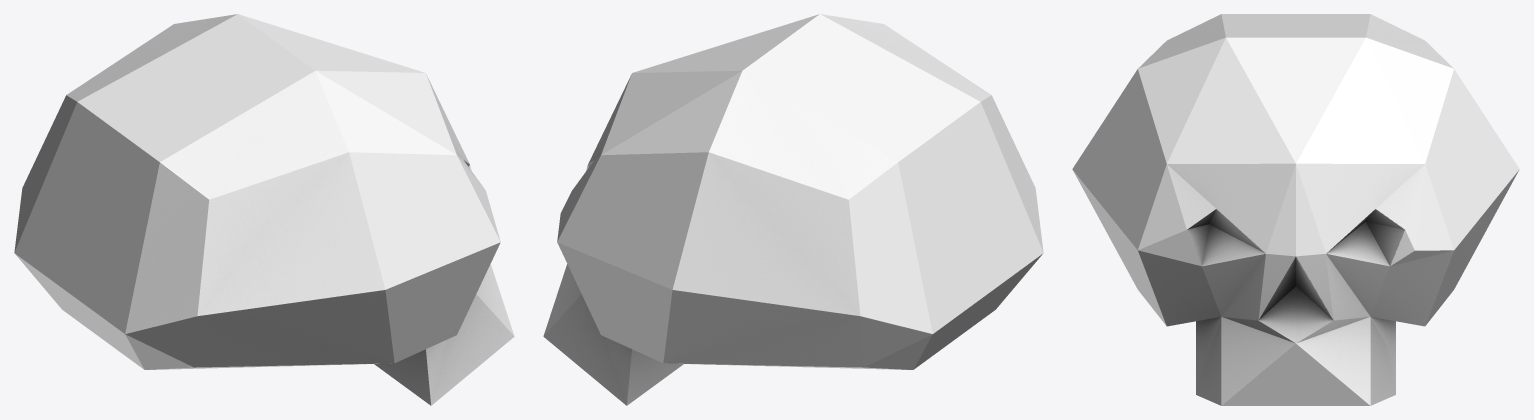
The model's file is Skull.dae.
3 views of the same model, side by side, from view 1: azimuth 30°, elevation 25°; view 2: azimuth 150°, elevation 25°; view 3: azimuth 270°, elevation 25° (orthographic). The views are drawn at different scales.
Parts seen in each view (by area): view 1: Cube; view 2: Cube; view 3: Cube.
Part boxes in pixels (x1,y1,x2,y2): Cube: (14,14,514,405); Cube: (543,14,1043,405); Cube: (1072,14,1519,405).
Size of the model in its own units: 2.71 by 2.83 by 2.19.
1 material, 1 textured.
